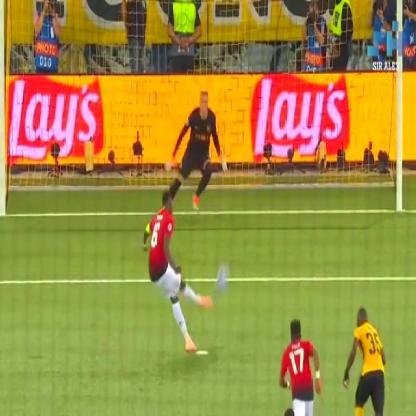penalty kick: (136, 65, 243, 355)
